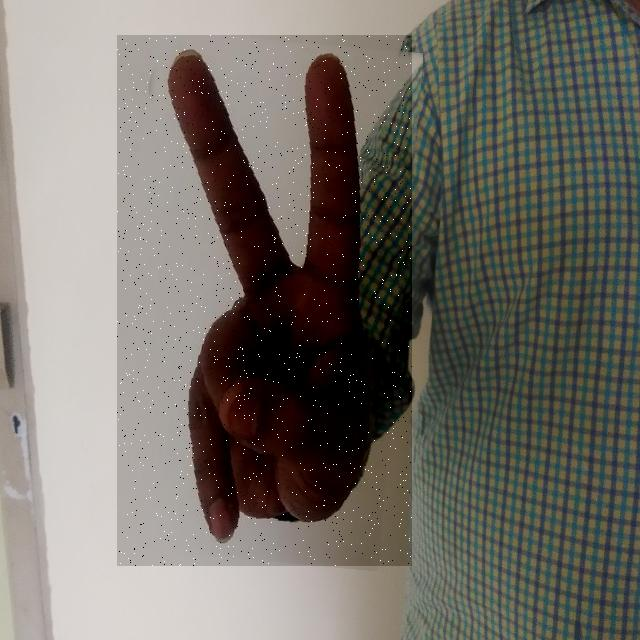V: (117, 35, 412, 566)
